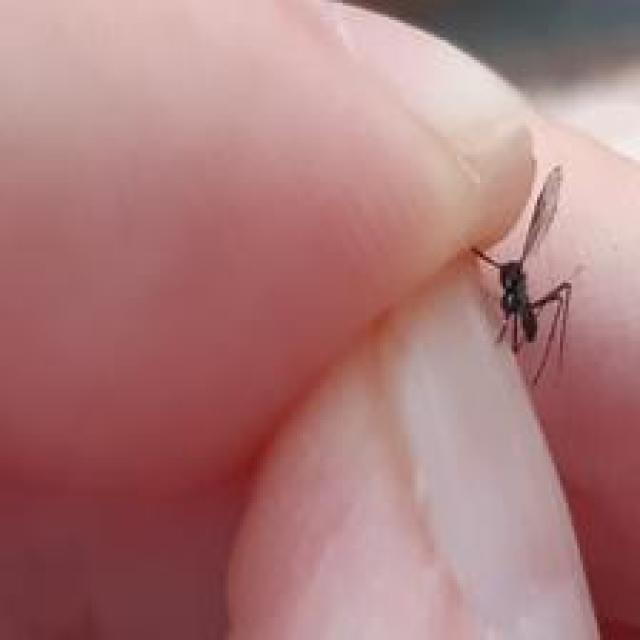Aedes albopictus: (467, 163, 579, 388)
